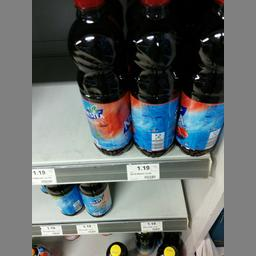juice: (66, 0, 132, 154), (122, 0, 180, 157), (178, 0, 223, 157)
